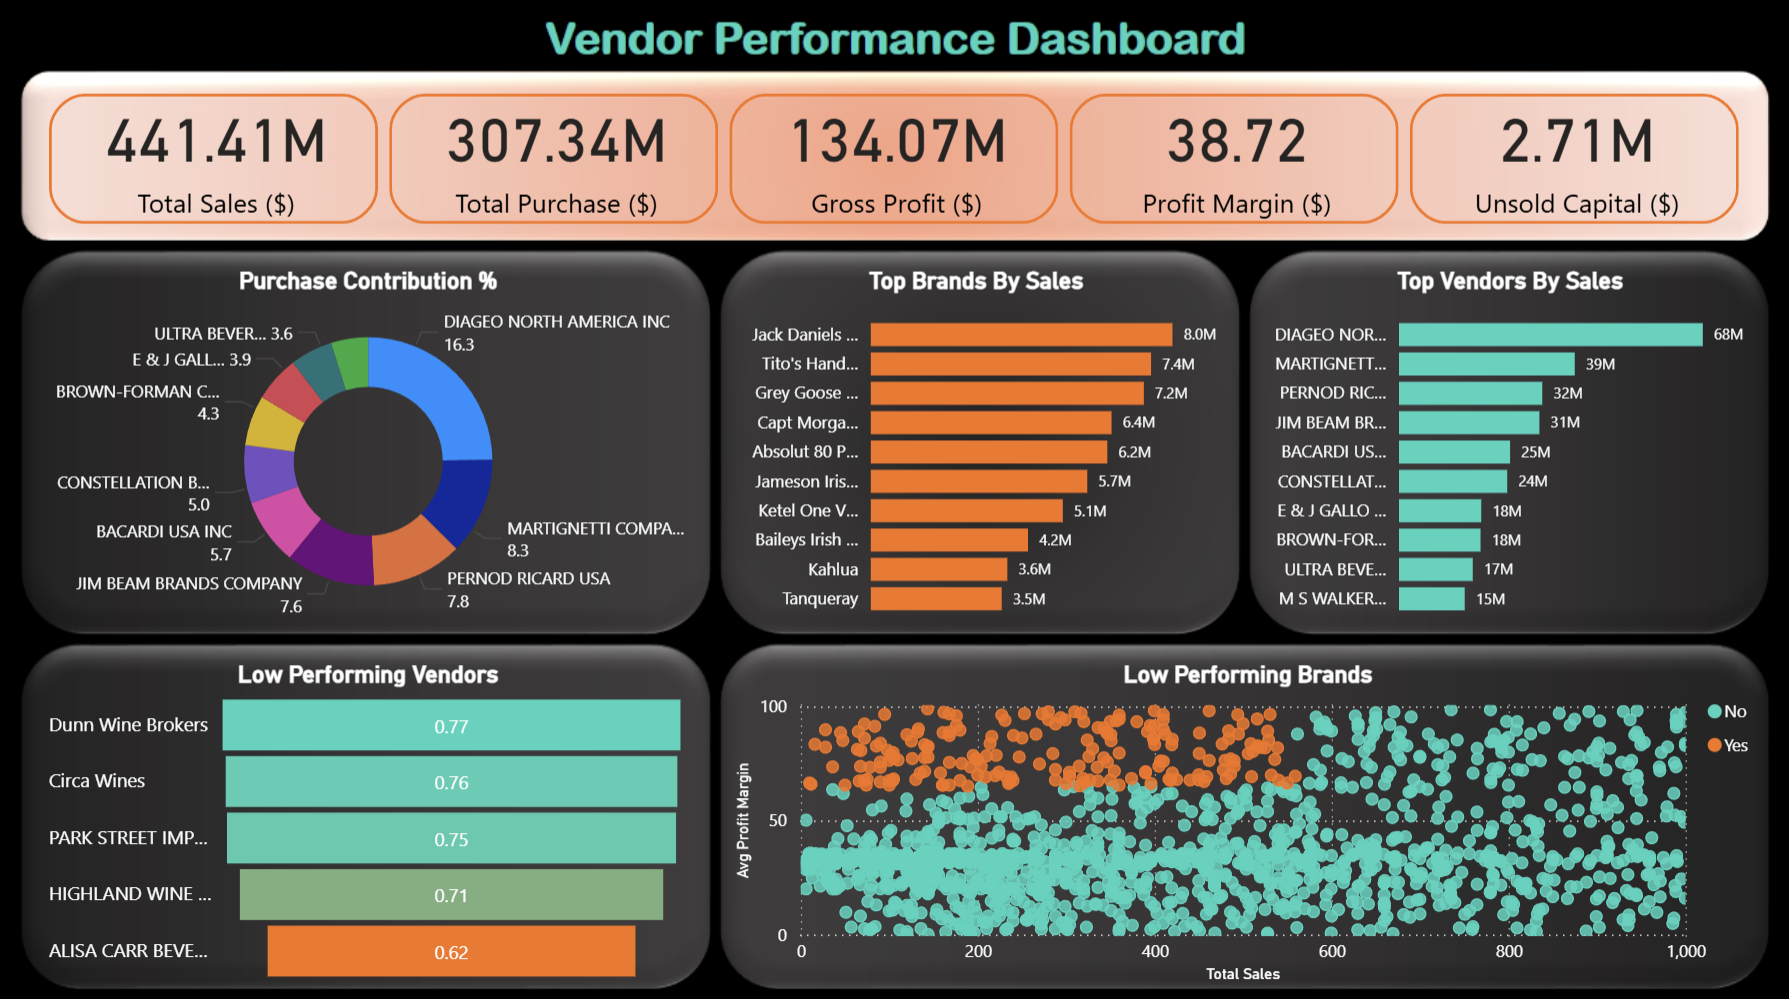

What the dashboard file says about the page in this screenshot:
{"tool":"powerbi","page":{"name":"Page 1","canvas":[1280,720],"ordinal":0},"visuals":[{"type":"cardVisual","fields":{"Data":["Sum(vendor_sales_summary.TotalSalesDollars)","Sum(vendor_sales_summary.TotalPurchaseDollars)","Sum(vendor_sales_summary.GrossProfit)","Avg(vendor_sales_summary.ProfitMargin)","Sum(vendor_sales_summary.UnsoldContribution)"]},"box":[30.3,63.7,1219.3,103.1],"z":0},{"type":"donutChart","title":"Purchase Contribution %","fields":{"Category":["PurchaseContribution.VendorName"],"Y":["Sum(PurchaseContribution.PurchaseContribution%)"]},"box":[29.7,193.2,466,259.4],"z":1000},{"type":"funnel","title":"Low Performing Vendors","fields":{"Y":["Avg(LowTurnoverVendor.AvgStockTurnOver)"],"Category":["LowTurnoverVendor.VendorName"]},"box":[29.7,474.1,466,235],"z":2000},{"type":"scatterChart","title":"Low Performing Brands","fields":{"Category":["BrandPerformance.Description"],"X":["Sum(BrandPerformance.TotalSales)"],"Y":["Sum(BrandPerformance.AvgProfitMargin)"],"Series":["BrandPerformance.TargetBrand"]},"box":[520.1,474.1,743,235],"z":3000},{"type":"barChart","title":"Top Vendors By Sales","fields":{"Category":["vendor_sales_summary.VendorName"],"Y":["Sum(vendor_sales_summary.TotalSalesDollars)"]},"box":[893.7,193.1,369.2,259.4],"z":4000},{"type":"barChart","title":"Top Brands By Sales","fields":{"Category":["vendor_sales_summary.Description"],"Y":["Sum(vendor_sales_summary.TotalSalesDollars)"]},"box":[520.2,192.6,354.9,259.3],"z":5000}]}

Visuals, with their boxes in screenshot pixels (x1, y1, x2, y2), scaled from the page's 1280x720 canvas onto the 1789x999 screenshot:
cardVisual - Sum(vendor_sales_summary.TotalSalesDollars) x Sum(vendor_sales_summary.TotalPurchaseDollars): BBox(42, 88, 1747, 231)
"Purchase Contribution %" donutChart: BBox(42, 268, 693, 628)
"Low Performing Vendors" funnel: BBox(42, 658, 693, 984)
"Low Performing Brands" scatterChart: BBox(727, 658, 1765, 984)
"Top Vendors By Sales" barChart: BBox(1249, 268, 1765, 628)
"Top Brands By Sales" barChart: BBox(727, 267, 1223, 627)
